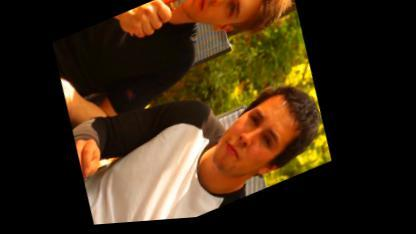knife: (133, 0, 224, 42)
